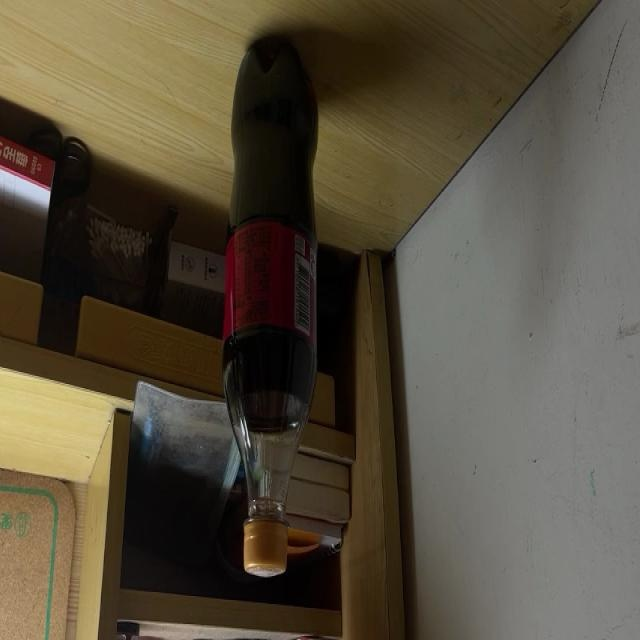Coca-Cola: (224, 38, 320, 579)
